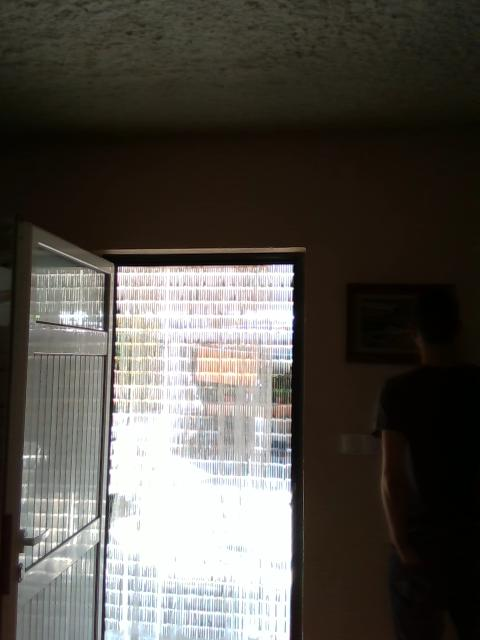open_door: (93, 247, 306, 639)
